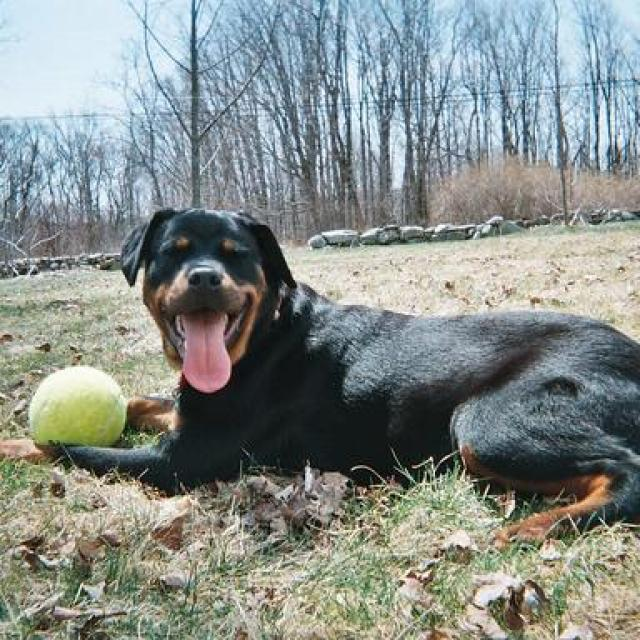happy: (21, 175, 640, 566)
